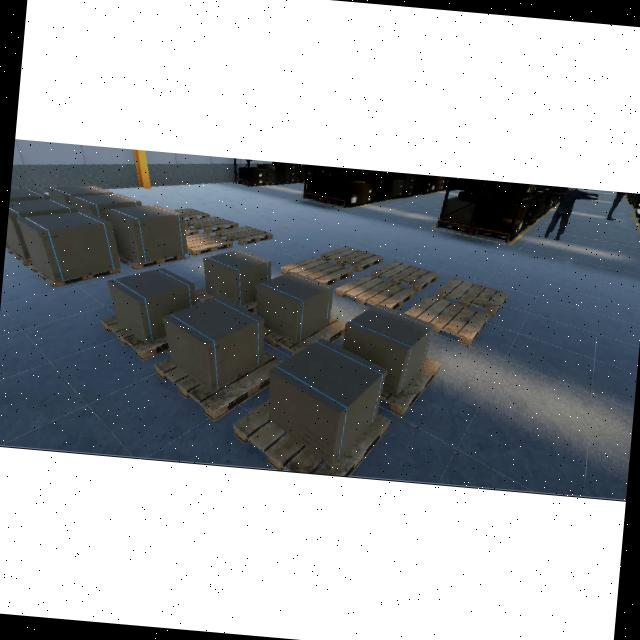wooden_pallet: (233, 398, 391, 475), (154, 347, 285, 421), (404, 294, 490, 345), (379, 356, 441, 416), (99, 312, 169, 362), (435, 276, 508, 317), (335, 273, 414, 309), (371, 259, 439, 293), (30, 262, 120, 287), (279, 256, 354, 285), (319, 244, 383, 272), (215, 224, 273, 245), (118, 252, 186, 269), (186, 232, 233, 256), (184, 215, 239, 233), (173, 207, 210, 219), (184, 224, 198, 235)
